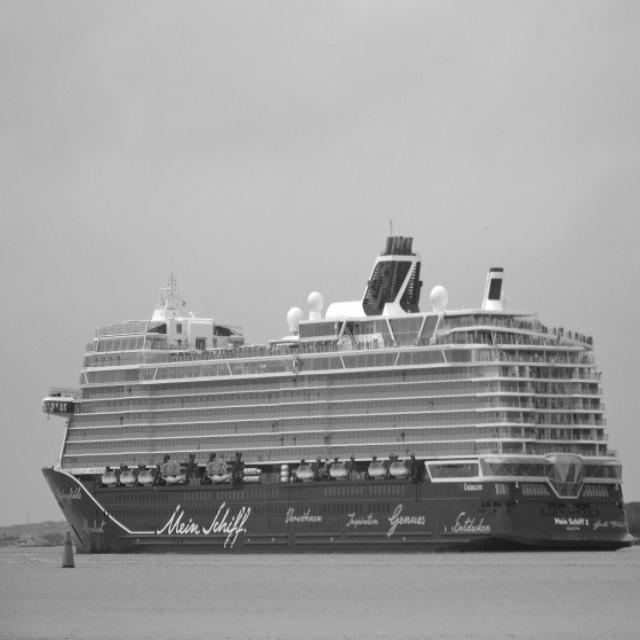cruises: (38, 219, 637, 564)
